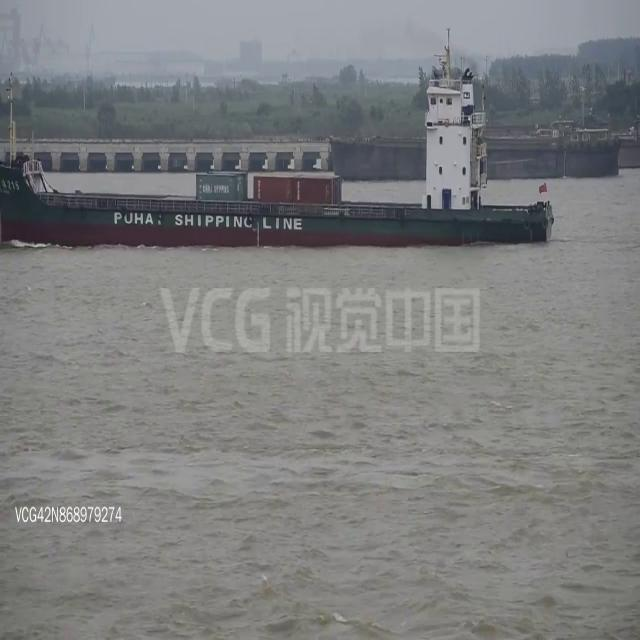cargoship: (0, 77, 558, 247)
